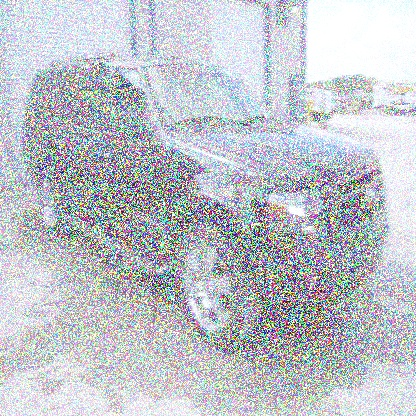Vehicle: (23, 53, 389, 355)
